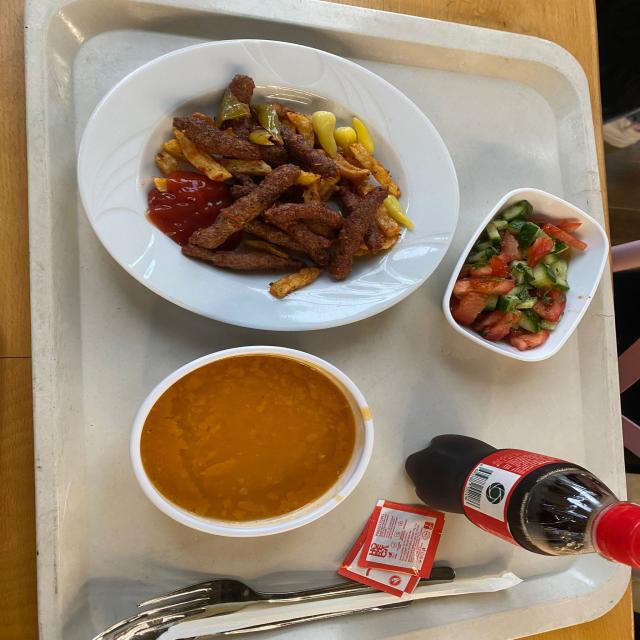ana_yemek: (122, 28, 447, 349)
corba: (104, 342, 383, 544)
yan_yemek: (444, 185, 610, 369)
